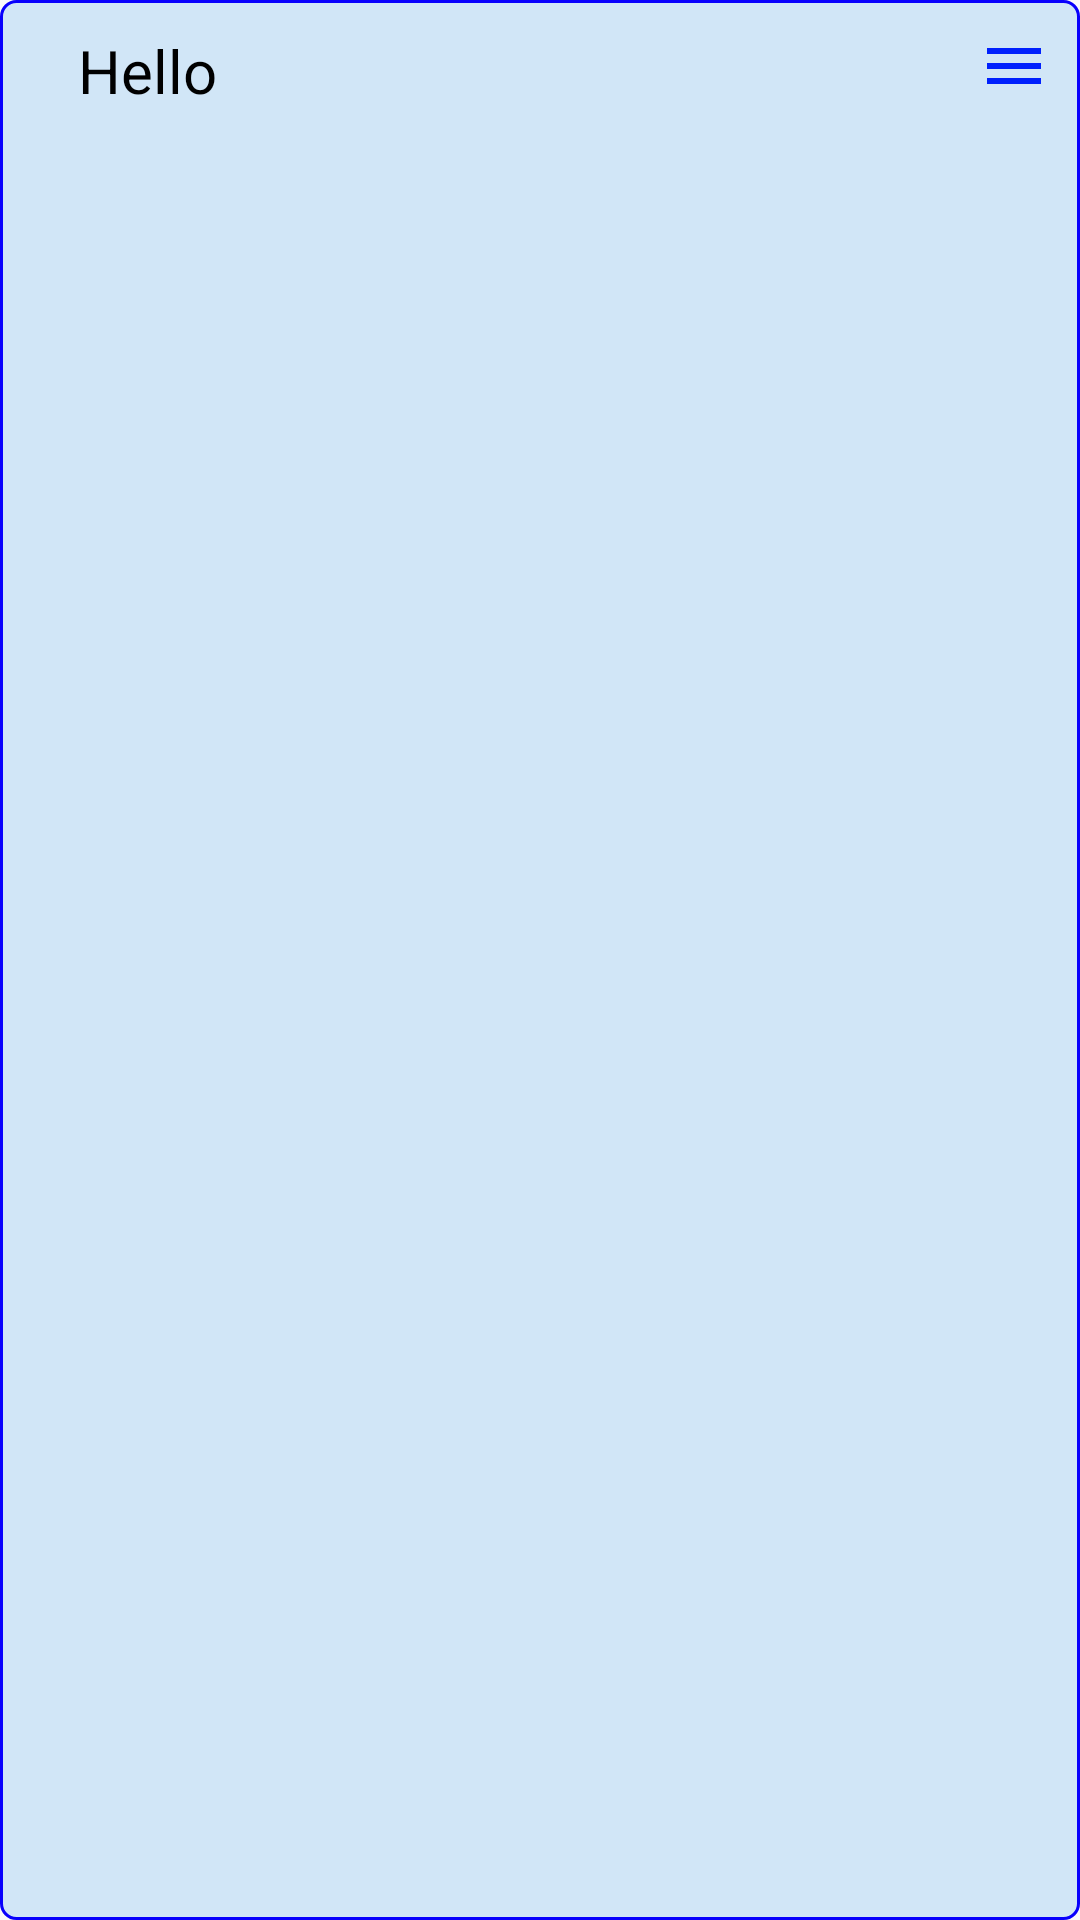

Icon bounding boxes for this 1080×1920 phone screenshot, format region(x1, y1, x2, y2):
menu: region(987, 48, 1041, 84)
